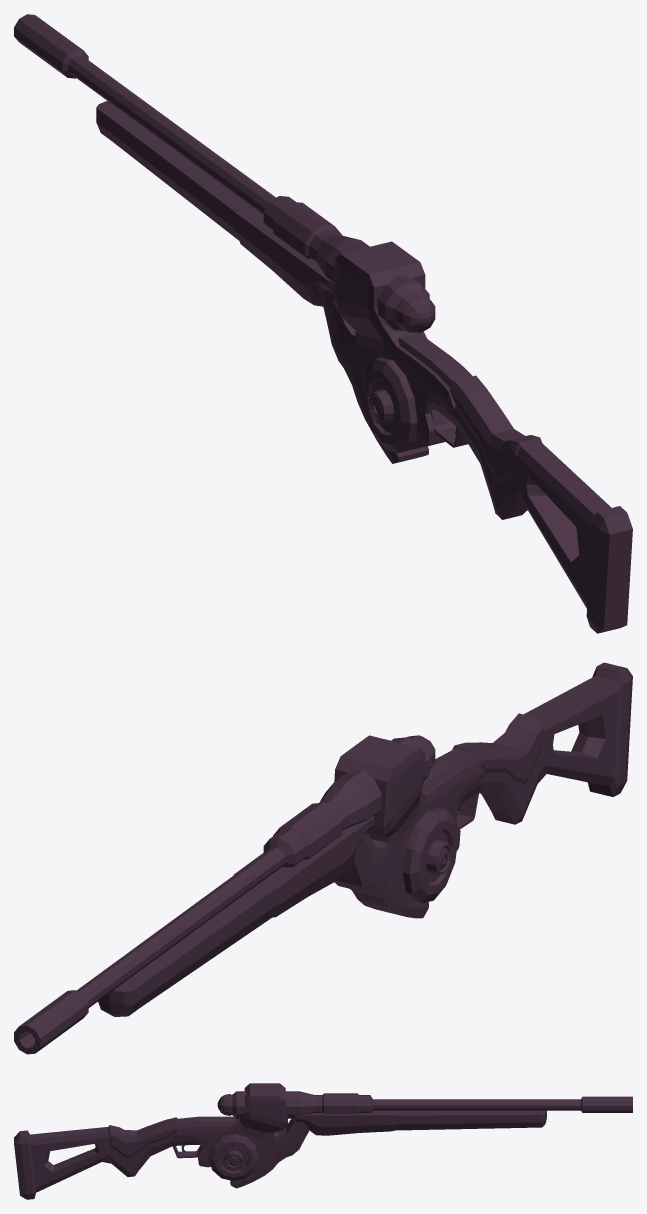
Rendered from sniper-rifle.glb.
3 renders of one model, top to bottom at view 1: azimuth 30°, elevation 25°; view 2: azimuth 150°, elevation 25°; view 3: azimuth 270°, elevation 25°, orthographic. The views are drawn at different scales.
Parts seen in each view (by area): view 1: SniperRifle_Cube; view 2: SniperRifle_Cube; view 3: SniperRifle_Cube.
Part boxes in pixels (x1,y1,x2,y2): SniperRifle_Cube: (14,14,632,633); SniperRifle_Cube: (14,662,632,1054); SniperRifle_Cube: (14,1083,632,1199).
Size of the model in its own units: 0.1215 by 0.3475 by 1.82.
